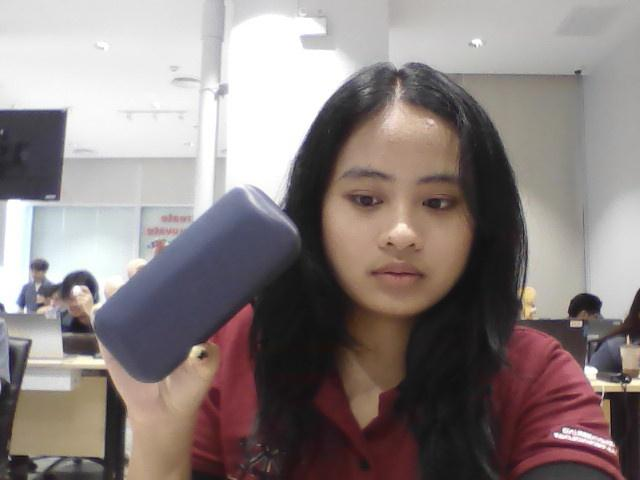glasses box: (74, 173, 301, 394)
